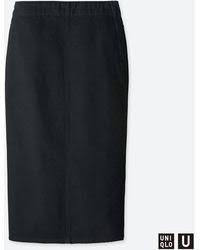F_tailored skirt: (3, 1, 138, 247)
